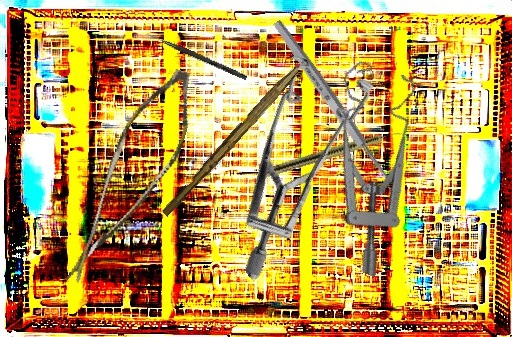Handpiece: (257, 124, 410, 182)
Hook Surgical: (145, 31, 248, 81)
Micro Scissor: (64, 55, 204, 302)
Scalpel Handle: (160, 62, 301, 220)
Speculum: (159, 27, 426, 282), (271, 52, 460, 278)
Surgical Spoon: (270, 18, 404, 199)
